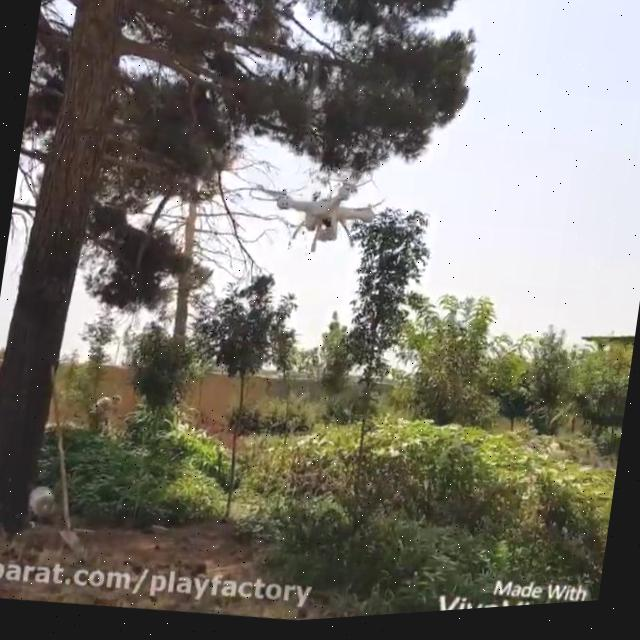drone: (237, 161, 389, 269)
